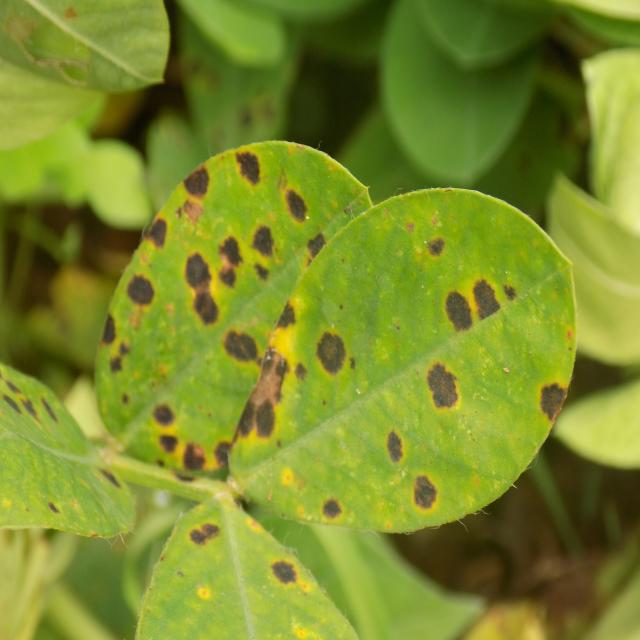Ground nut_tikka leaf spot: (224, 181, 580, 529), (100, 134, 370, 486)
